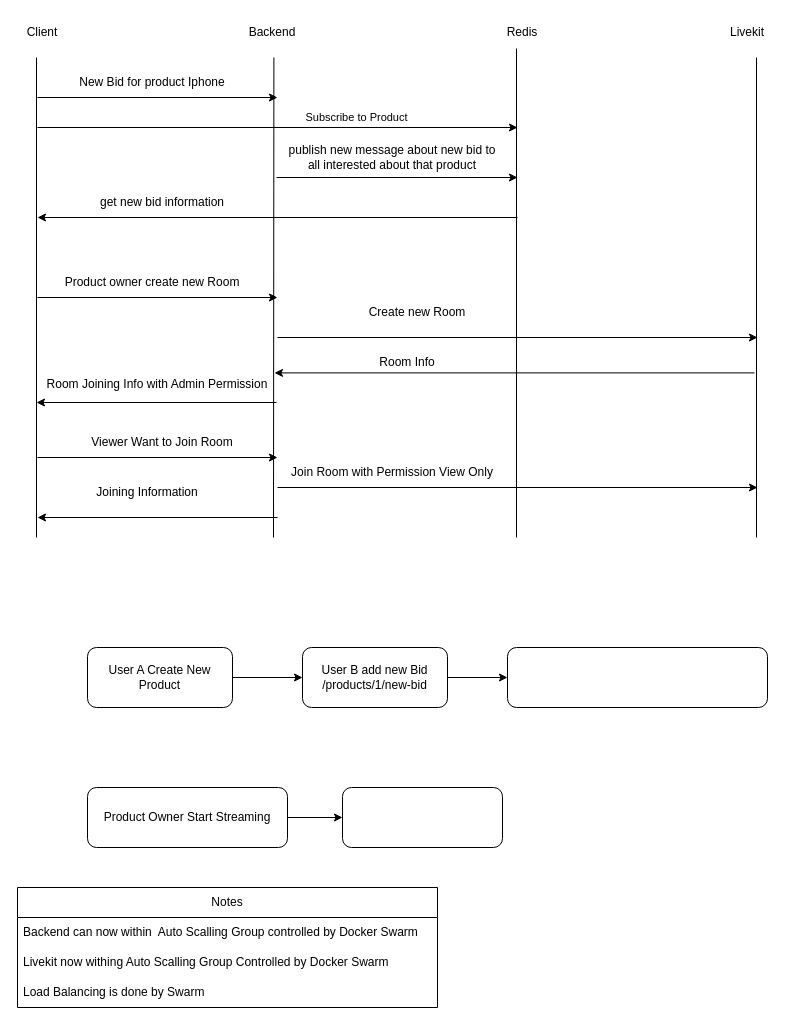
The diagram is 795 pixels wide and 1025 high, and some of its shapes have lost their labels. Here are the shapes that lost their labels. From the top down, the box of each, then its label:
(506, 646, 768, 708): Notify all User about new Bid /ws/notifications/products/1/bids
(342, 786, 502, 848): Users Can Join Stream
